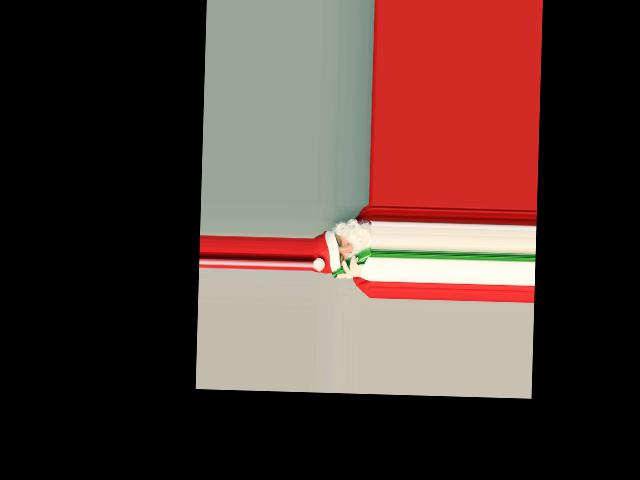beer: (332, 247, 372, 279)
